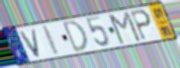5: (84, 14, 111, 49)
D: (62, 19, 91, 55)
I: (41, 24, 62, 57)
M: (108, 10, 143, 46)
P: (129, 8, 154, 41)
V: (18, 27, 43, 59)
